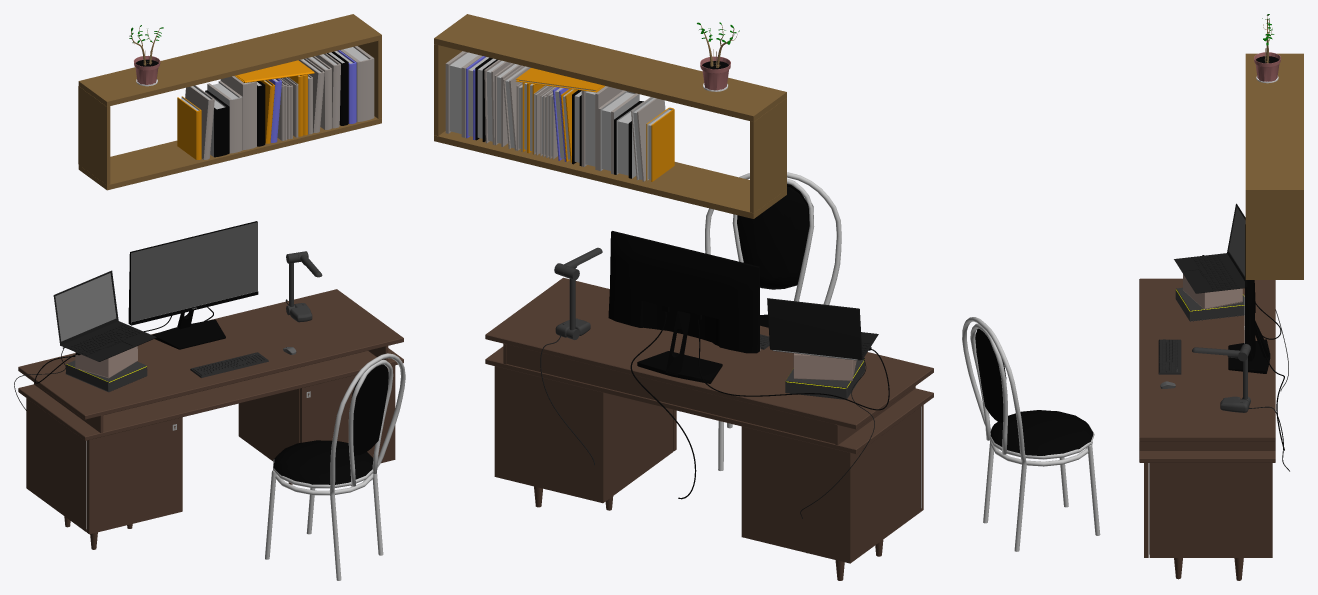
The model's file is Homework_XYZ.fbx.
The picture shows the model from 3 angles, left to right: view 1: azimuth 30°, elevation 25°; view 2: azimuth 150°, elevation 25°; view 3: azimuth 270°, elevation 25°; orthographic projection. The views are drawn at different scales.
Parts seen in each view (by area): view 1: Table:polySurface2, Flower:directionalLight3, Monitor:polySurface5, Chair1:polySurface4, Notebook:polySurface7, box:polySurface3, Lamp1:polySurface3, Flower:pCylinder11, keyboard:polySurface178; view 2: Table:polySurface2, Flower:directionalLight3, Monitor:polySurface5, Chair1:polySurface4, Notebook:polySurface7, box:polySurface3, Lamp1:polySurface3, Flower:pCylinder11; view 3: Table:polySurface2, Flower:directionalLight3, Chair1:polySurface4, Notebook:polySurface7, box:polySurface3, Monitor:polySurface5, Lamp1:polySurface3, Flower:pCylinder11, keyboard:polySurface178.
Boxes of the visible parts, box(x1,y1,x2,y2) form: Table:polySurface2: box(18, 289, 403, 549); Flower:directionalLight3: box(78, 14, 381, 190); Monitor:polySurface5: box(128, 221, 258, 349); Chair1:polySurface4: box(265, 353, 405, 580); Notebook:polySurface7: box(53, 270, 156, 361); box:polySurface3: box(65, 346, 147, 392); Lamp1:polySurface3: box(286, 251, 322, 322); Flower:pCylinder11: box(129, 25, 163, 86); keyboard:polySurface178: box(190, 352, 268, 377); Table:polySurface2: box(485, 277, 933, 580); Flower:directionalLight3: box(434, 14, 786, 218); Monitor:polySurface5: box(608, 231, 760, 383); Chair1:polySurface4: box(705, 172, 841, 470); Notebook:polySurface7: box(767, 298, 878, 360); box:polySurface3: box(785, 353, 864, 399); Lamp1:polySurface3: box(554, 247, 602, 339); Flower:pCylinder11: box(697, 22, 739, 91); Table:polySurface2: box(1139, 278, 1275, 580); Flower:directionalLight3: box(1245, 53, 1303, 279); Chair1:polySurface4: box(962, 317, 1100, 551); Notebook:polySurface7: box(1174, 203, 1245, 293); box:polySurface3: box(1175, 274, 1244, 321); Monitor:polySurface5: box(1228, 224, 1270, 373); Lamp1:polySurface3: box(1192, 344, 1250, 412); Flower:pCylinder11: box(1254, 14, 1280, 83); keyboard:polySurface178: box(1158, 339, 1181, 374).
Size of the model in its own units: 4.79 by 5.98 by 3.89.
